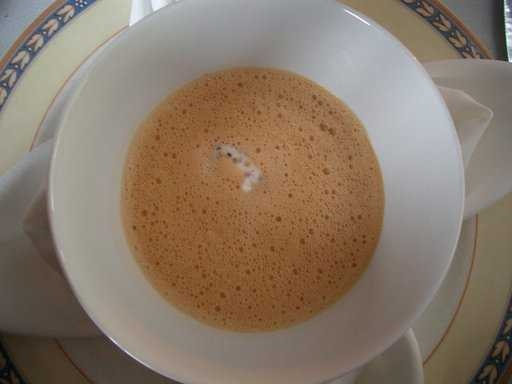soup: (74, 32, 412, 333)
